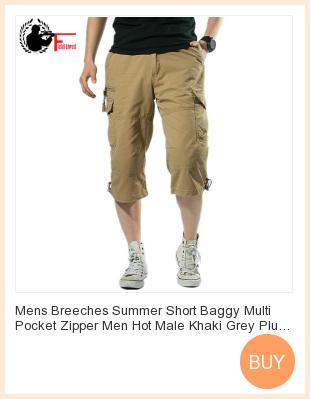pants: (99, 49, 215, 199)
